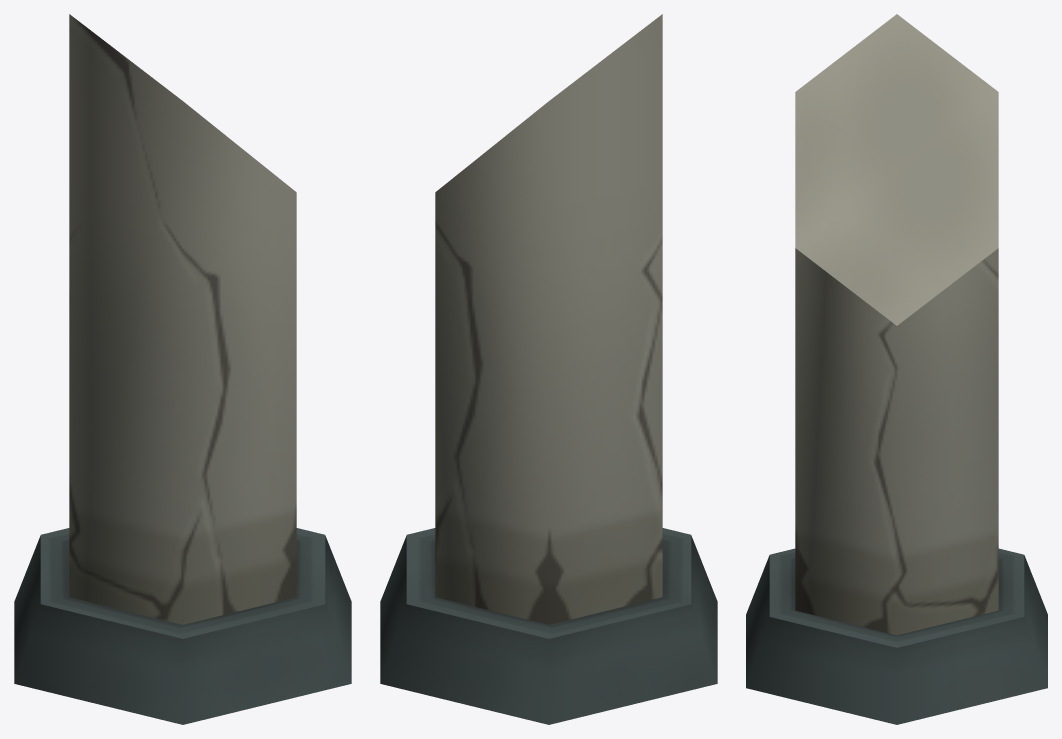
The model's file is Dg_01_pillar_05.FBX.
3 renders of one model, left to right at view 1: azimuth 30°, elevation 25°; view 2: azimuth 150°, elevation 25°; view 3: azimuth 270°, elevation 25°, orthographic. The views are drawn at different scales.
Visible parts, largest first — view 1: Dg_01_pillar_05; view 2: Dg_01_pillar_05; view 3: Dg_01_pillar_05.
Part boxes in pixels (left/top/right/bottom): Dg_01_pillar_05: left=14, top=14, right=351, bottom=724; Dg_01_pillar_05: left=380, top=14, right=717, bottom=724; Dg_01_pillar_05: left=746, top=14, right=1047, bottom=724.
Size of the model in its own units: 0.8649 by 1.61 by 0.749.
